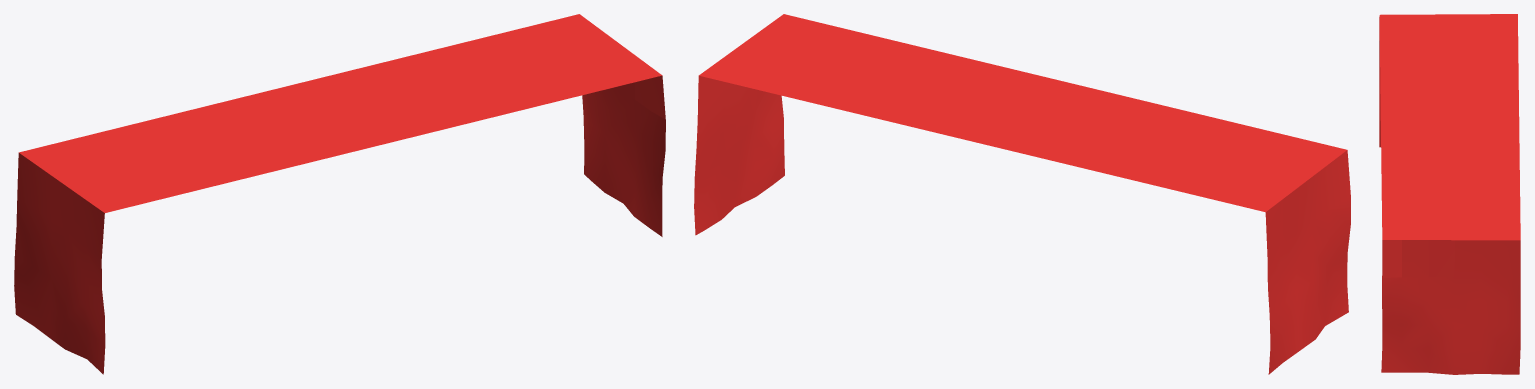
File: trono.fbx
The picture shows the model from 3 angles, left to right: view 1: azimuth 30°, elevation 25°; view 2: azimuth 150°, elevation 25°; view 3: azimuth 270°, elevation 25°; orthographic projection. The views are drawn at different scales.
Visible parts, largest first — view 1: Altar.000; view 2: Altar.000; view 3: Altar.000.
Boxes of the visible parts, <box> form: Altar.000: <box>14,14,665,374</box>; Altar.000: <box>694,14,1350,374</box>; Altar.000: <box>1379,14,1520,374</box>.
Size of the model in its own units: 397 by 107 by 103.
